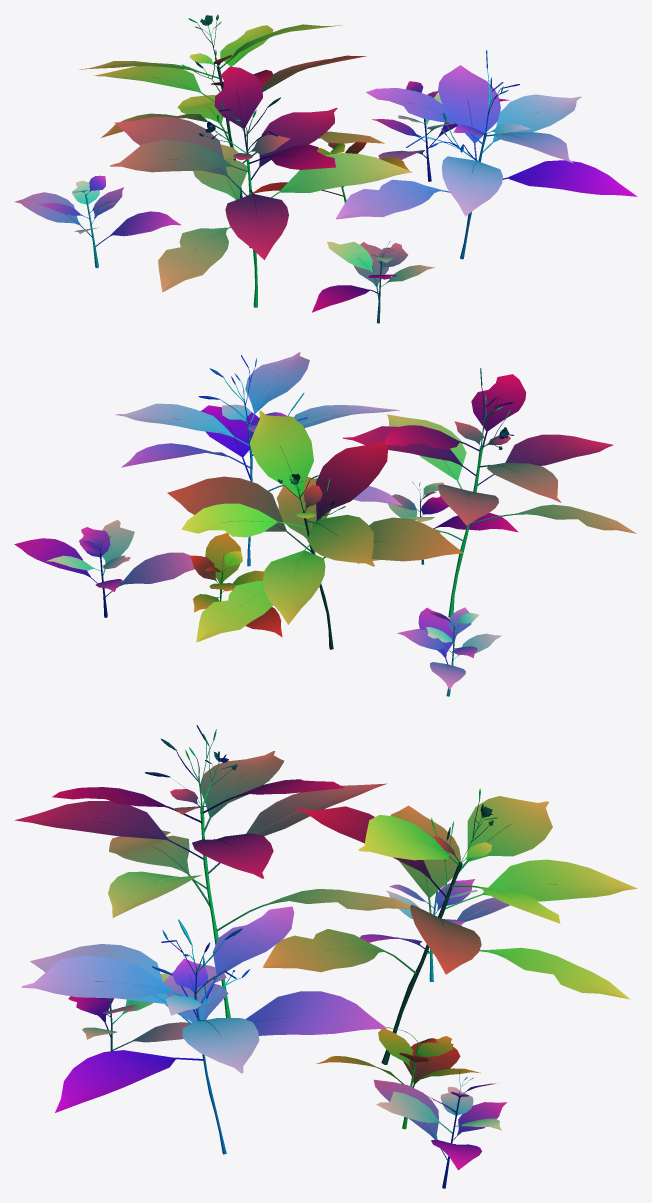
The model's file is xefmcgrqx_VarH_LOD0.fbx.
3 views of the same model, one above another, from view 1: azimuth 30°, elevation 25°; view 2: azimuth 150°, elevation 25°; view 3: azimuth 270°, elevation 25° (orthographic). The views are drawn at different scales.
Parts seen in each view (by area): view 1: _7973_VarH_LOD1; view 2: _7973_VarH_LOD1; view 3: _7973_VarH_LOD1.
Part boxes in pixels (x1,y1,x2,y2): _7973_VarH_LOD1: (14,14,637,323); _7973_VarH_LOD1: (14,352,636,696); _7973_VarH_LOD1: (15,725,637,1188).
Bounding box in the file's own units: 68.16 × 30.94 × 60.46.
